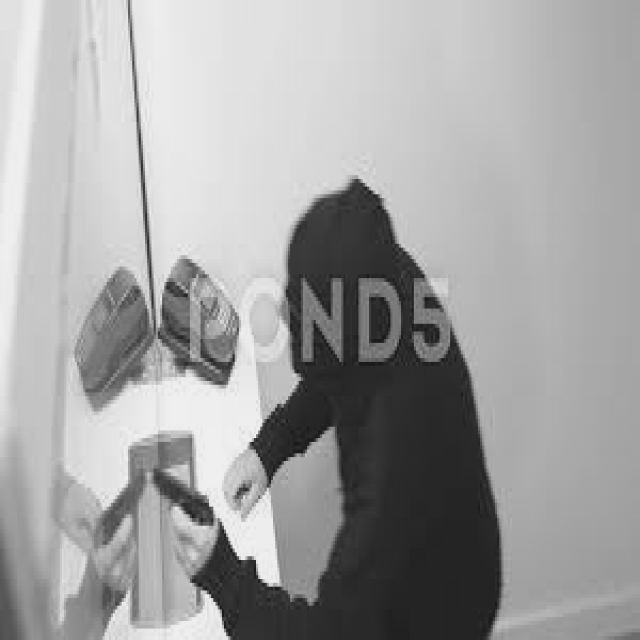gun: (149, 461, 218, 571), (98, 461, 149, 560)
